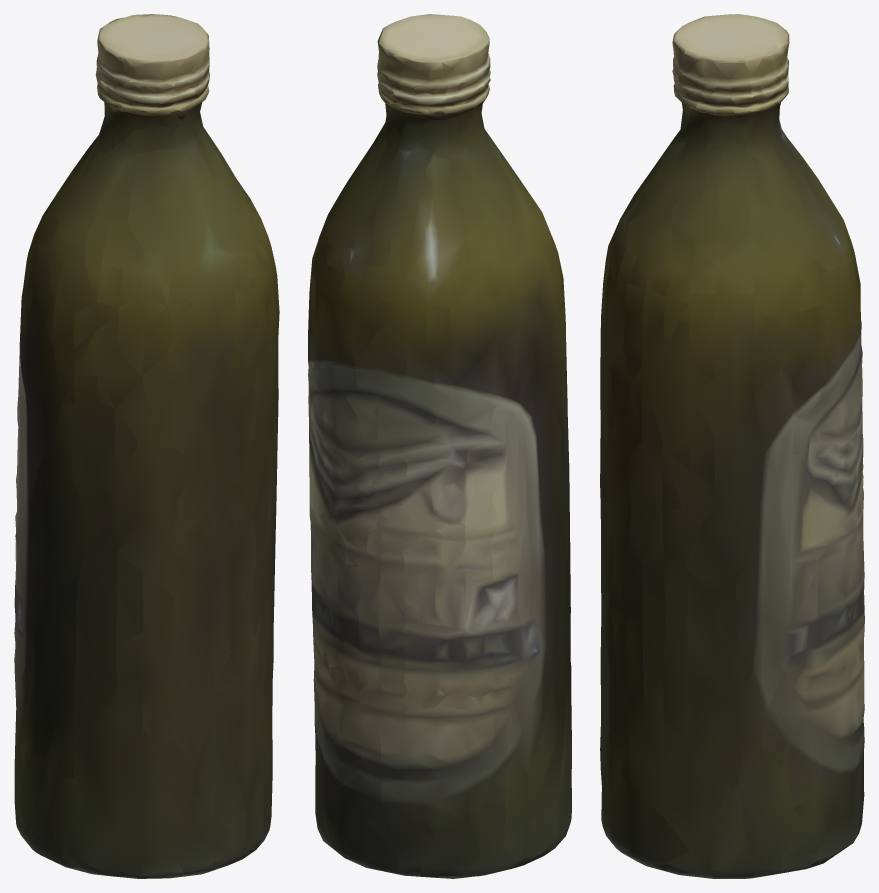
Rendered from 0007_mask_008_olive_oil_bottle.glb.
The picture shows the model from 3 angles, left to right: view 1: azimuth 30°, elevation 25°; view 2: azimuth 150°, elevation 25°; view 3: azimuth 270°, elevation 25°; orthographic projection.
Visible parts, largest first — view 1: mask_008_object; view 2: mask_008_object; view 3: mask_008_object.
Part boxes in pixels (x1=…): mask_008_object: x1=14, y1=14, x2=279, y2=878; mask_008_object: x1=308, y1=14, x2=571, y2=878; mask_008_object: x1=600, y1=14, x2=864, y2=878.
Size of the model in its own units: 0.1835 by 0.6046 by 0.1818.
